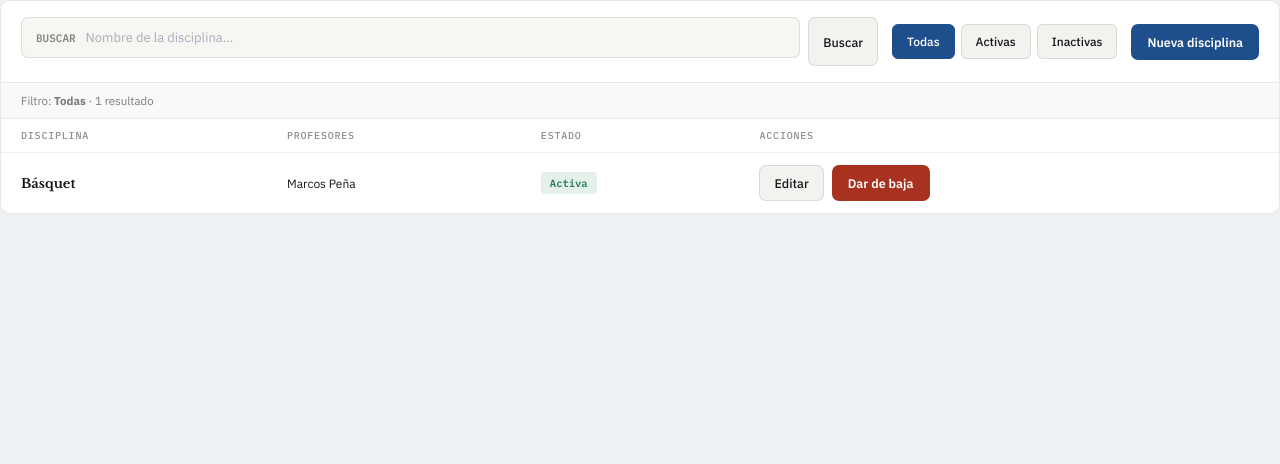
Test: DisciplinesView create and edit › edits a discipline with a prefilled form
This screenshot has width=1280, height=464.
Click the button with aria-label "Editar Básquet" at (792, 183), box [760,165,824,201]
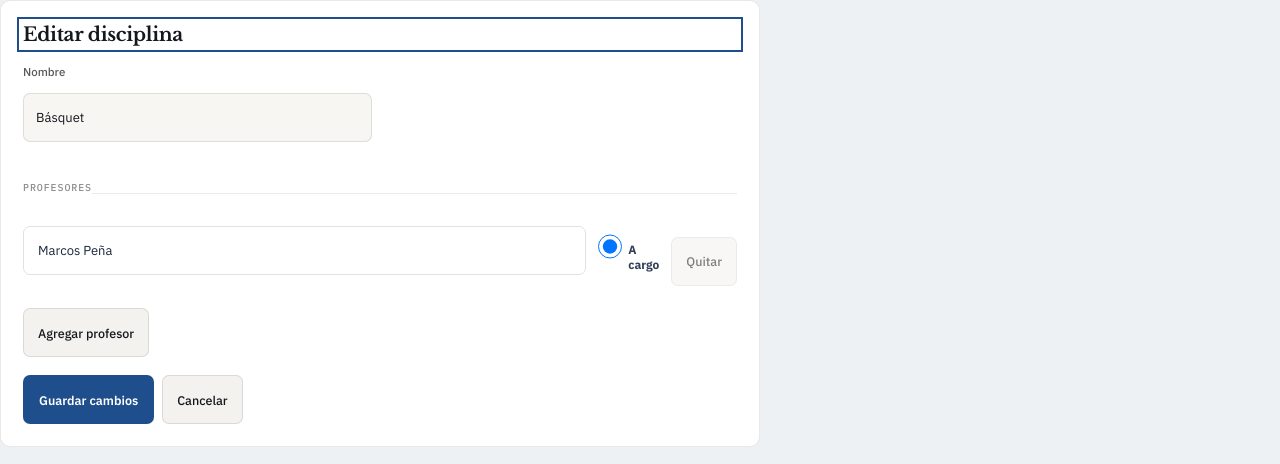
Now the heading "Editar disciplina" is shown, box [23,23,183,46]
Now the field labelled "Nombre" holds "Básquet", box [23,93,372,142]
Now the field named "Profesor 1" holds "Marcos Peña"
Replace the text in the field named "Profesor 1" with "Lucas Vera" at (305, 250), box [23,226,586,275]
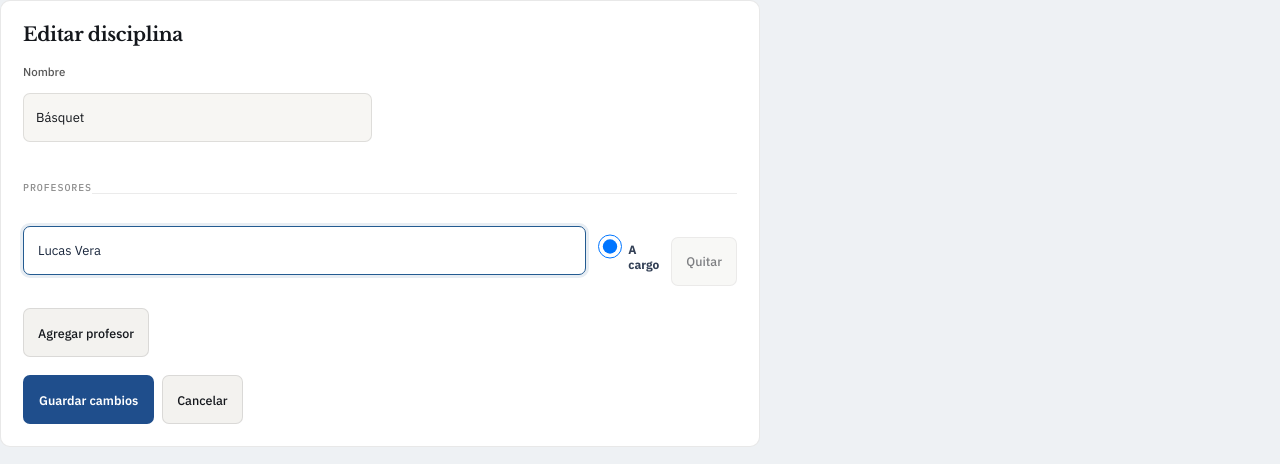
Click the button "Guardar cambios" at (89, 400), box [23,375,154,424]
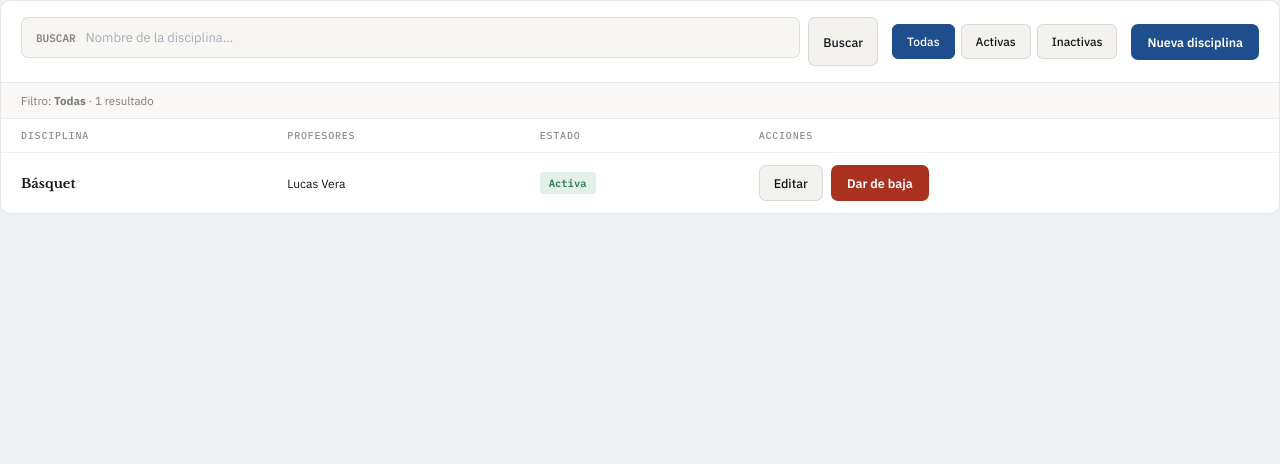
Now the text "Lucas Vera" is shown, box [287,176,345,190]
